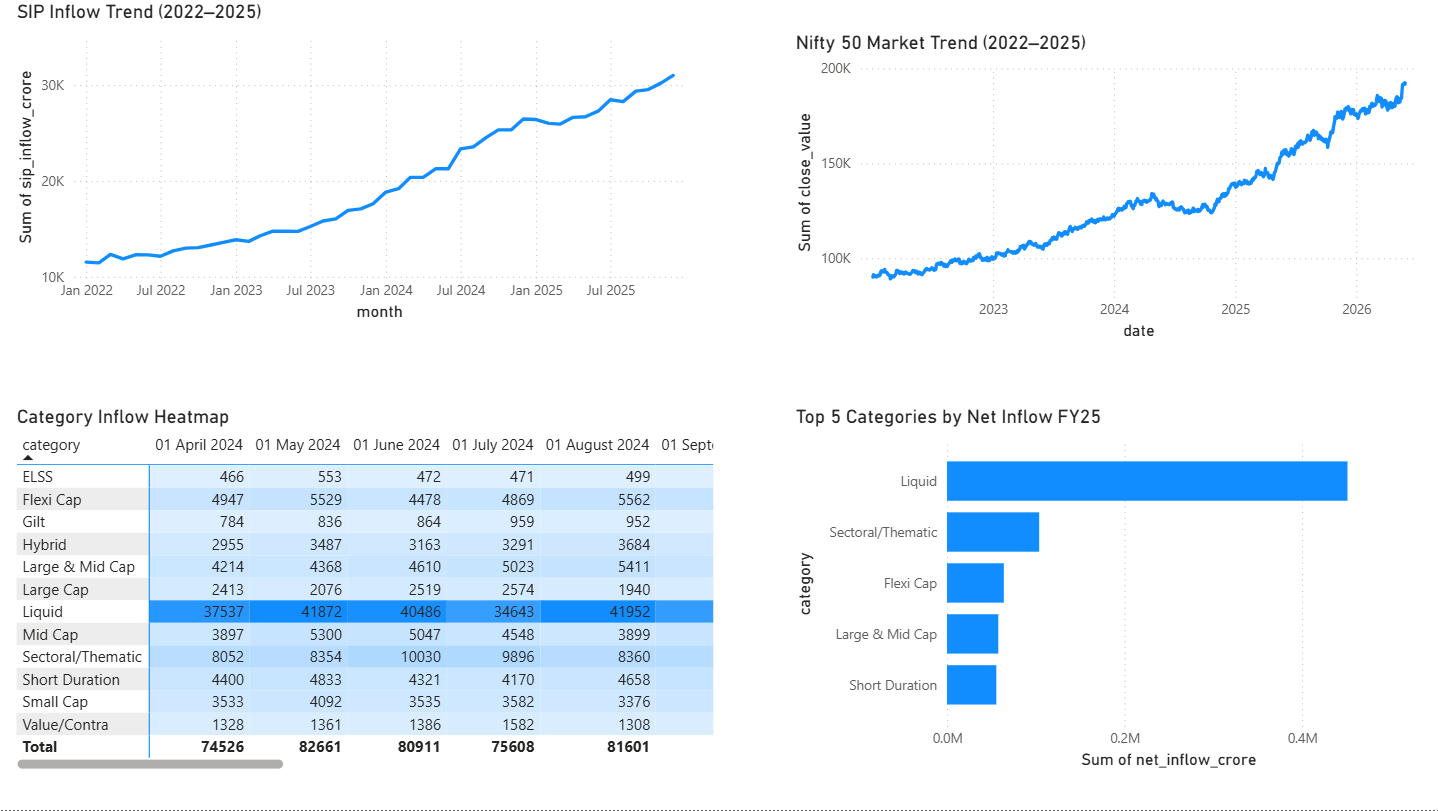

What the dashboard file says about the page in this screenshot:
{"tool":"powerbi","page":{"name":"SIP & Market Trends","canvas":[1280,720],"ordinal":3},"visuals":[{"type":"lineChart","title":"SIP Inflow Trend (2022–2025)","fields":{"Category":["04_monthly_sip_inflows_cleaned.month"],"Y":["Sum(04_monthly_sip_inflows_cleaned.sip_inflow_crore)"]},"box":[10.4,0,615.6,290],"z":0},{"type":"lineChart","title":"Nifty 50 Market Trend (2022–2025)","fields":{"Category":["10_benchmark_indices_cleaned.date"],"Y":["Sum(10_benchmark_indices_cleaned.close_value)"]},"box":[701.9,28.3,565.1,279.6],"z":1000},{"type":"pivotTable","title":"Category Inflow Heatmap","fields":{"Rows":["05_category_inflows_cleaned.category"],"Columns":["05_category_inflows_cleaned.month"],"Values":["Sum(05_category_inflows_cleaned.net_inflow_crore)"]},"box":[10.4,359.9,629,328.6],"z":2000},{"type":"clusteredBarChart","title":"Top 5 Categories by Net Inflow FY25","fields":{"Category":["05_category_inflows_cleaned.category"],"Y":["Sum(05_category_inflows_cleaned.net_inflow_crore)"]},"box":[701.9,359.9,553.2,328.6],"z":3000}]}

Visuals, with their boxes in screenshot pixels (x1, y1, x2, y2), scaled from the page's 1280x720 canvas onto the 1438x811 screenshot:
"SIP Inflow Trend (2022–2025)" lineChart: {"left": 12, "top": 0, "right": 703, "bottom": 327}
"Nifty 50 Market Trend (2022–2025)" lineChart: {"left": 789, "top": 32, "right": 1423, "bottom": 347}
"Category Inflow Heatmap" pivotTable: {"left": 12, "top": 405, "right": 718, "bottom": 776}
"Top 5 Categories by Net Inflow FY25" clusteredBarChart: {"left": 789, "top": 405, "right": 1410, "bottom": 776}
